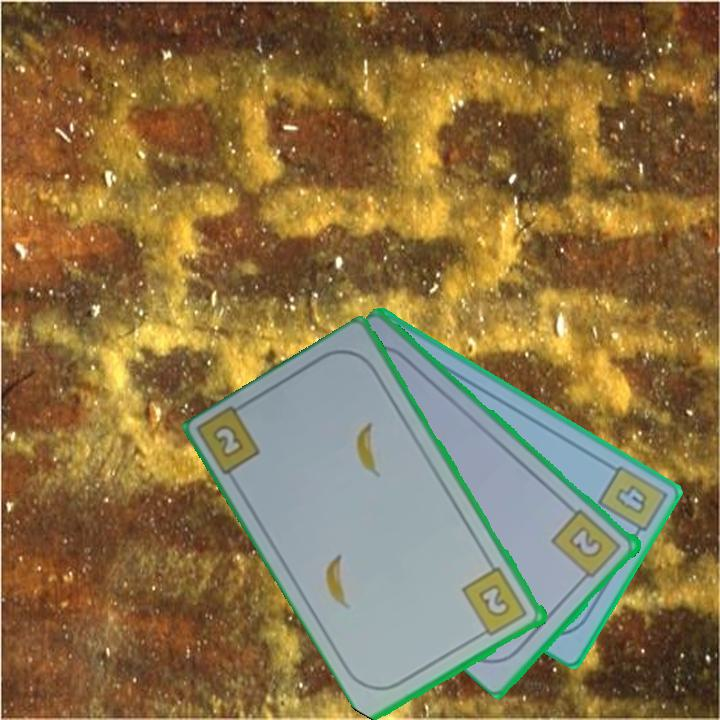2b: (548, 506, 625, 586), (459, 564, 531, 641), (209, 420, 248, 462)
4b: (594, 461, 669, 543)
